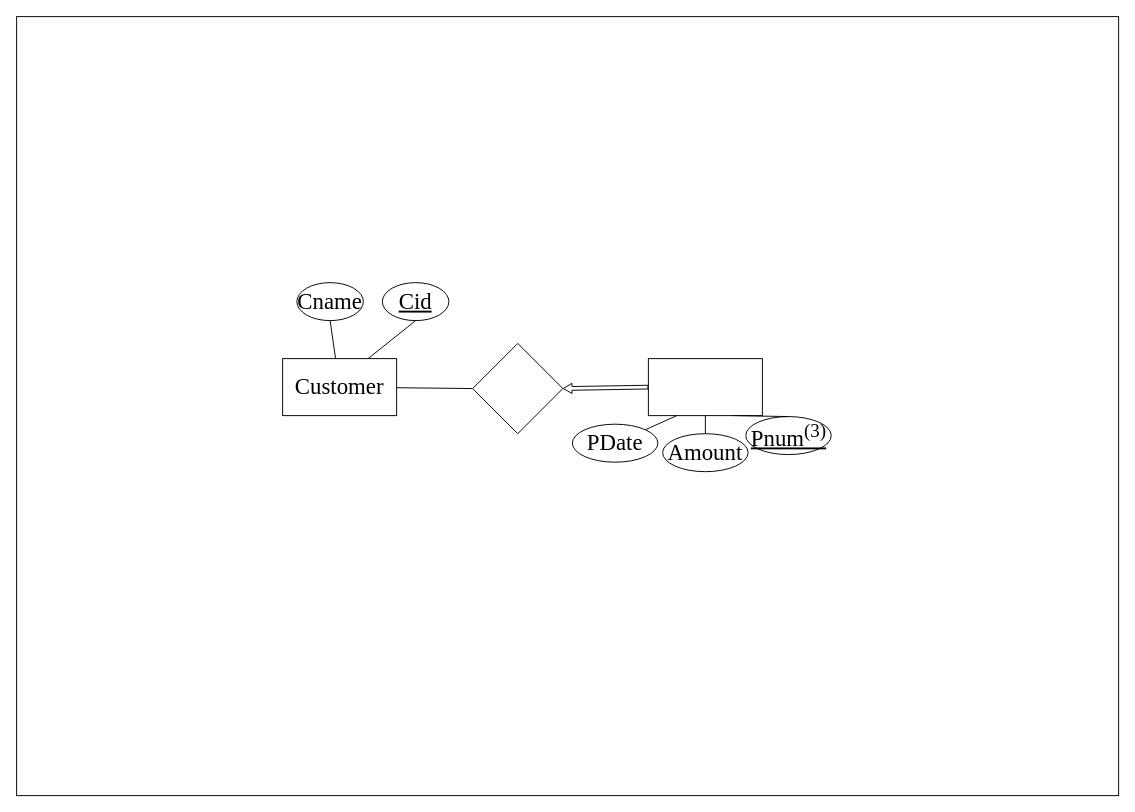
The diagram is 1135 pixels wide and 812 high, and some of its shapes have lost their labels. The shapes that lost their labels are listed below. From the top down, each one's centre as x and y in pixels, then its label:
point 517,388: Paid by
point 704,387: Payment
